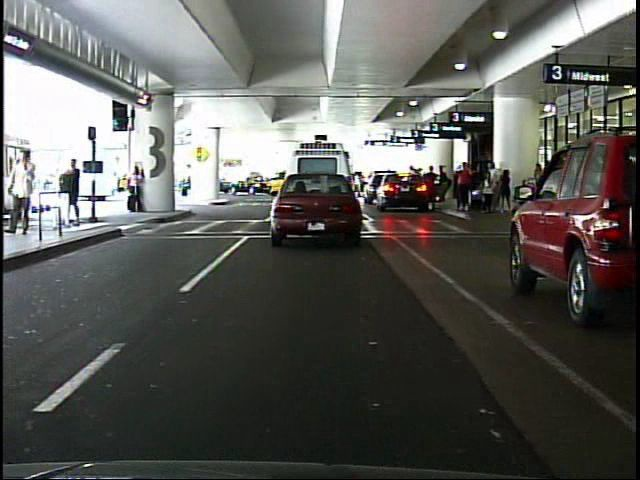person: (7, 149, 43, 242), (65, 155, 88, 230), (126, 162, 147, 214), (175, 160, 198, 202), (456, 162, 474, 214)
